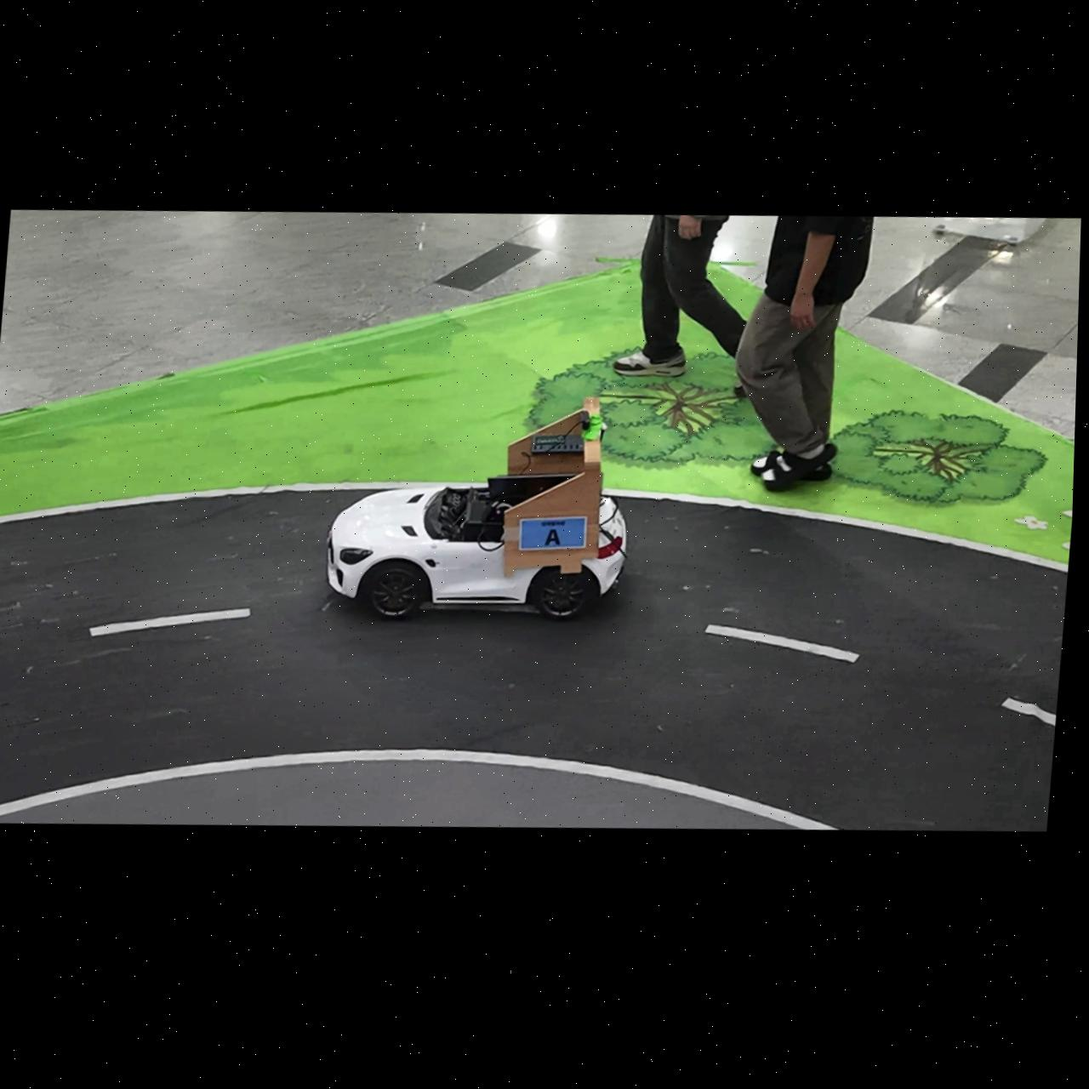broken_line: (704, 624, 859, 662), (89, 608, 250, 635), (1000, 697, 1055, 725)
